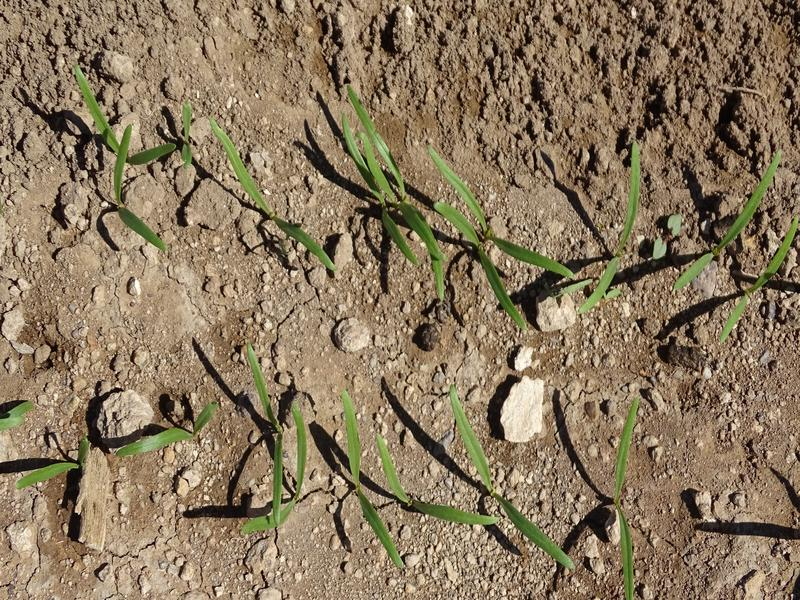Espinaca: (335, 88, 571, 328), (339, 394, 578, 578), (72, 67, 193, 251), (678, 146, 790, 340), (204, 114, 339, 274), (236, 348, 312, 530), (581, 141, 643, 314), (614, 394, 647, 596), (115, 402, 217, 458)
